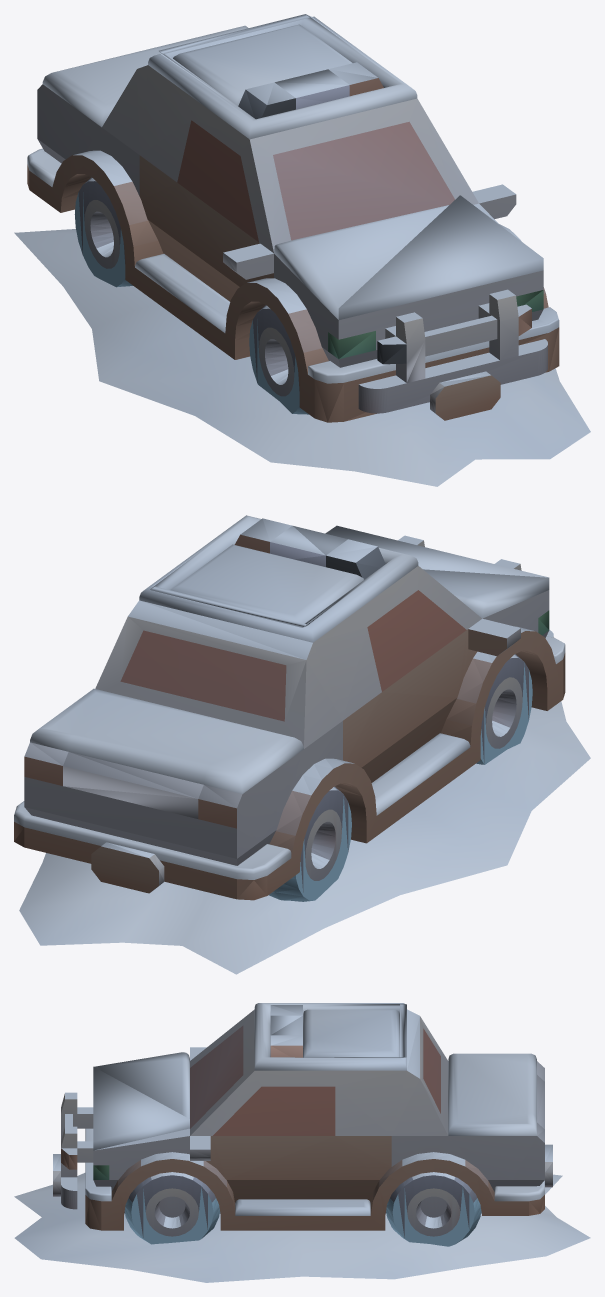
Rendered from k_police.glb.
The picture shows the model from 3 angles, top to bottom: view 1: azimuth 30°, elevation 25°; view 2: azimuth 150°, elevation 25°; view 3: azimuth 270°, elevation 25°; orthographic projection. The views are drawn at different scales.
Visible parts, largest first — view 1: Body; view 2: Body; view 3: Body.
Part boxes in pixels (x1,y1,x2,y2): Body: (14, 14, 590, 486); Body: (14, 515, 590, 974); Body: (14, 1003, 590, 1282).
Bounding box in the file's own units: 3.17 × 2.03 × 5.54.
